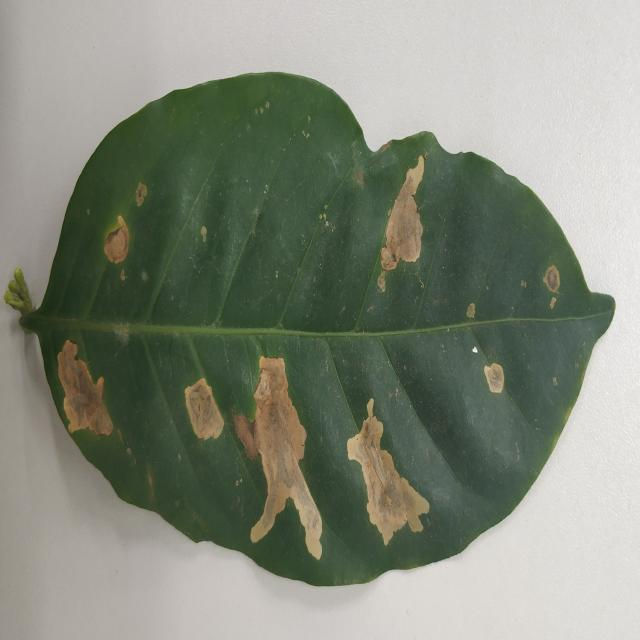Plaga-Minador: (8, 73, 616, 591)
